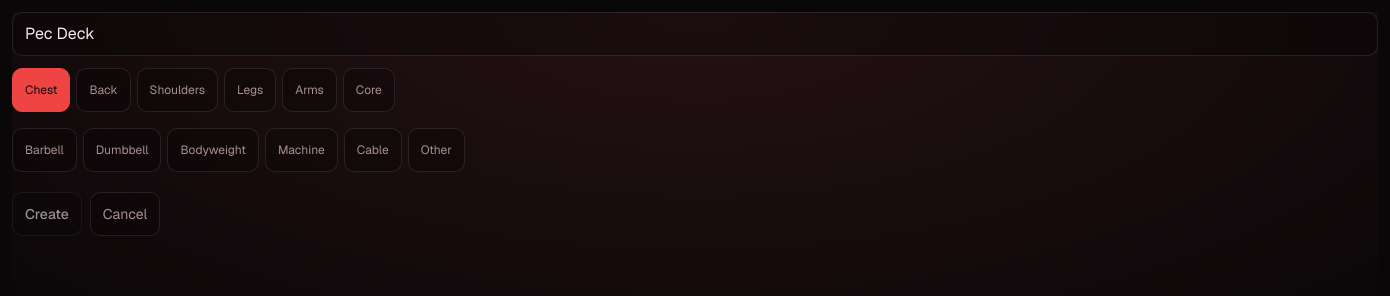
Test: ExerciseForm › replaces the selection when another chip in the same row is picked
Click the radio button labelled "Back". click: (104,90)
box: [76,68,131,112]
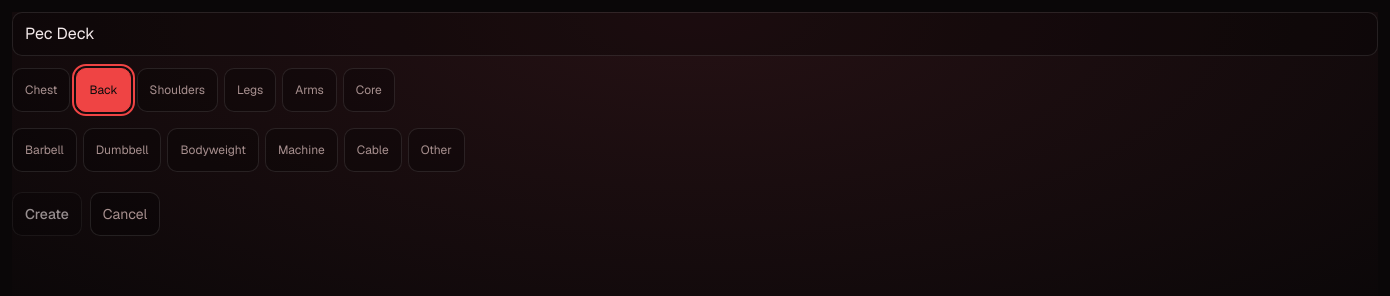
expect the radio button labelled "Back" is checked: met, box [76,68,131,112]
expect the radio button labelled "Chest" is not checked: met, box [12,68,70,112]
